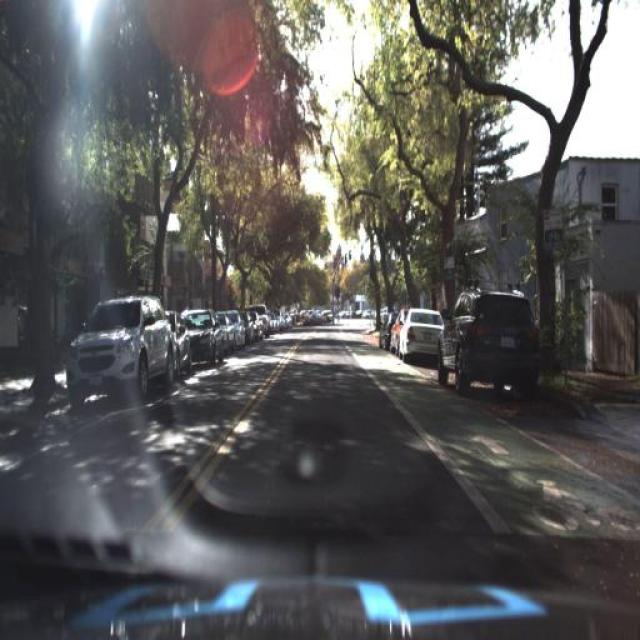car: (65, 293, 171, 407), (438, 283, 544, 395), (433, 286, 542, 392), (399, 300, 447, 366), (161, 304, 193, 390), (180, 304, 222, 365), (400, 304, 444, 361)
